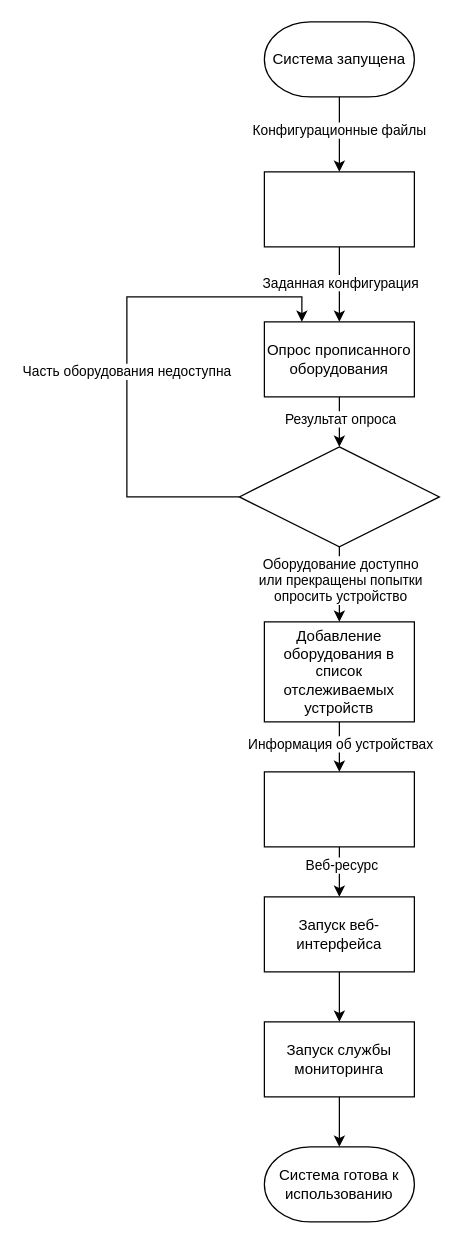
This 461x1244 diagram has some shape labels left out. Here are the shapes that lost their labels. From the top down, the box of each, then its label:
(263, 171, 414, 247): Применение конфигурации системы
(238, 446, 439, 547): Доступность оборудования
(263, 771, 414, 847): Инициализация веб-интерфейса
